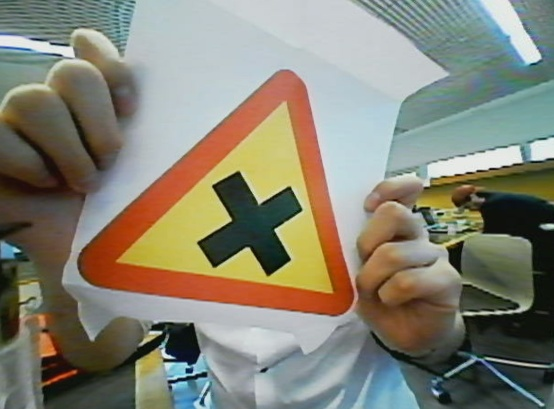junction: (67, 40, 364, 325)
